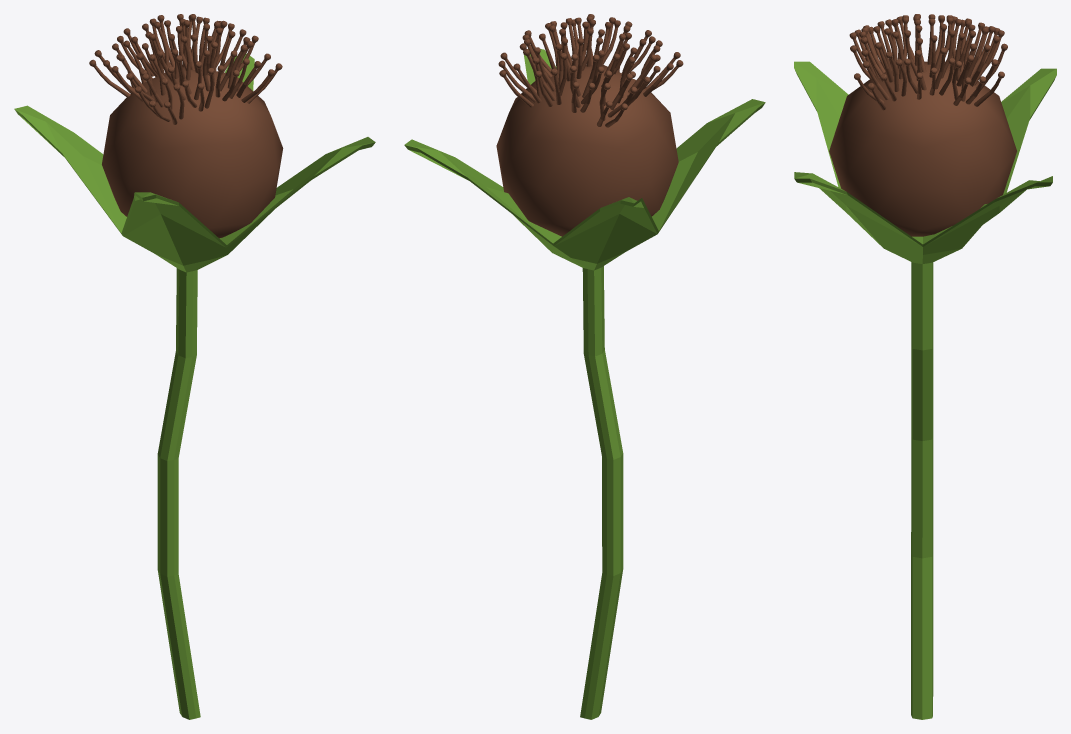
Rendered from HairStage3.fbx.
The picture shows the model from 3 angles, left to right: view 1: azimuth 30°, elevation 25°; view 2: azimuth 150°, elevation 25°; view 3: azimuth 270°, elevation 25°; orthographic projection.
Visible parts, largest first — view 1: Cylinder.011; view 2: Cylinder.011; view 3: Cylinder.011.
Boxes of the visible parts, bbox=[...] form: Cylinder.011: bbox=[14, 14, 375, 719]; Cylinder.011: bbox=[404, 14, 765, 719]; Cylinder.011: bbox=[794, 14, 1056, 719].
Size of the model in its own units: 63.89 by 178 by 61.37.
